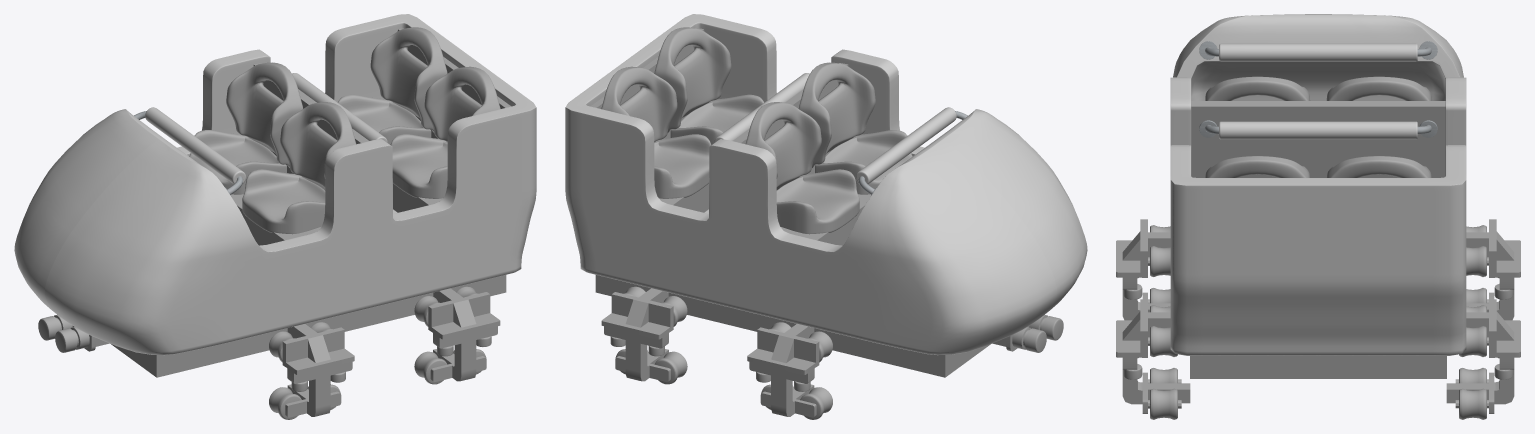
Rendered from FrontCart.fbx.
The picture shows the model from 3 angles, left to right: view 1: azimuth 30°, elevation 25°; view 2: azimuth 150°, elevation 25°; view 3: azimuth 270°, elevation 25°; orthographic projection. The views are drawn at different scales.
Parts seen in each view (by area): view 1: pasted__polySurface26, pasted__pCube39, cartwheelKappa:pCube1, pasted__pCube41, pasted__polySurface9, pasted__polySurface14, pasted__polySurface7, pasted__polySurface6, pasted__polySurface15, pasted__polySurface12, pasted__polySurface8, pasted__polySurface13 (+10 smaller); view 2: pasted__polySurface26, pasted__pCube39, pasted__pCube42, pasted__pCube43, pasted__polySurface6, pasted__polySurface15, pasted__polySurface8, pasted__polySurface9, pasted__polySurface14, pasted__polySurface13, pasted__polySurface7, pasted__polySurface12 (+10 smaller); view 3: pasted__polySurface26, pasted__polySurface4, pasted__pCube39, pasted__polySurface21, pasted__polySurface3, pasted__pCube43, pasted__pCube41, pasted__pCube42, cartwheelKappa:pCube1, pasted__polySurface9, pasted__polySurface6, pasted__polySurface14 (+9 smaller).
Boxes of the visible parts, <box> form: pasted__polySurface26: <box>14,14,536,355</box>; pasted__pCube39: <box>72,275,506,377</box>; cartwheelKappa:pCube1: <box>282,324,354,417</box>; pasted__pCube41: <box>428,288,500,381</box>; pasted__polySurface9: <box>226,62,303,167</box>; pasted__polySurface14: <box>370,27,447,133</box>; pasted__polySurface7: <box>242,169,325,234</box>; pasted__polySurface6: <box>280,102,356,189</box>; pasted__polySurface15: <box>424,66,500,141</box>; pasted__polySurface12: <box>390,134,447,198</box>; pasted__polySurface8: <box>189,130,286,194</box>; pasted__polySurface13: <box>338,94,431,144</box>; pasted__polySurface26: <box>565,14,1087,355</box>; pasted__pCube39: <box>595,275,1029,377</box>; pasted__pCube42: <box>747,324,819,417</box>; pasted__pCube43: <box>601,288,673,381</box>; pasted__polySurface6: <box>798,62,875,167</box>; pasted__polySurface15: <box>654,27,731,133</box>; pasted__polySurface8: <box>776,169,859,234</box>; pasted__polySurface9: <box>745,102,821,189</box>; pasted__polySurface14: <box>601,66,677,141</box>; pasted__polySurface13: <box>654,134,711,198</box>; pasted__polySurface7: <box>815,130,912,194</box>; pasted__polySurface12: <box>670,94,763,144</box>; pasted__polySurface26: <box>1170,14,1466,355</box>; pasted__polySurface4: <box>1191,101,1445,177</box>; pasted__pCube39: <box>1190,356,1446,378</box>; pasted__polySurface21: <box>1219,121,1417,139</box>; pasted__polySurface3: <box>1219,43,1417,61</box>; pasted__pCube43: <box>1446,299,1520,413</box>; pasted__pCube41: <box>1116,299,1190,413</box>; pasted__pCube42: <box>1466,219,1520,320</box>; cartwheelKappa:pCube1: <box>1116,219,1170,320</box>; pasted__polySurface9: <box>1326,76,1431,100</box>; pasted__polySurface6: <box>1205,76,1310,100</box>; pasted__polySurface14: <box>1326,156,1431,177</box>.
Bounding box in the file's own units: 1.36 × 0.7757 × 0.9825.
